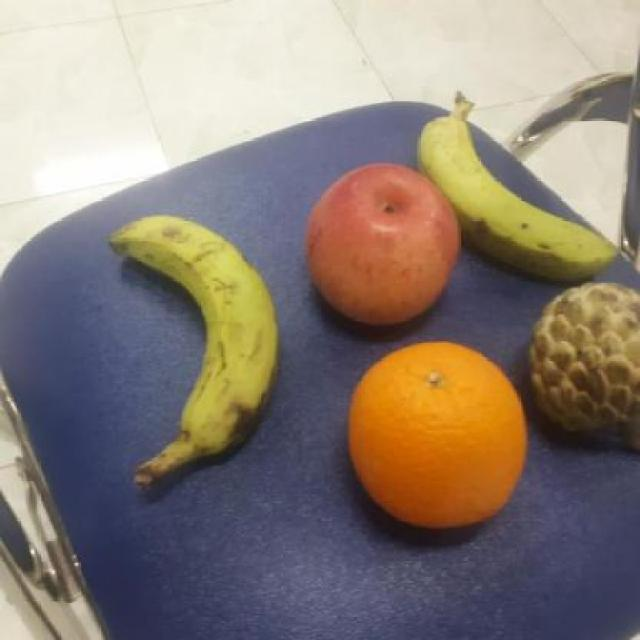apple: (305, 160, 458, 328)
banana: (106, 210, 285, 453), (413, 112, 619, 278)
oren: (346, 340, 528, 535)
sugar apple: (523, 280, 640, 448)
